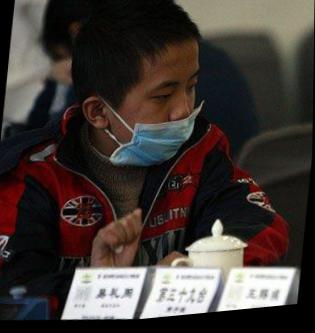WRONG: (88, 55, 202, 177)
